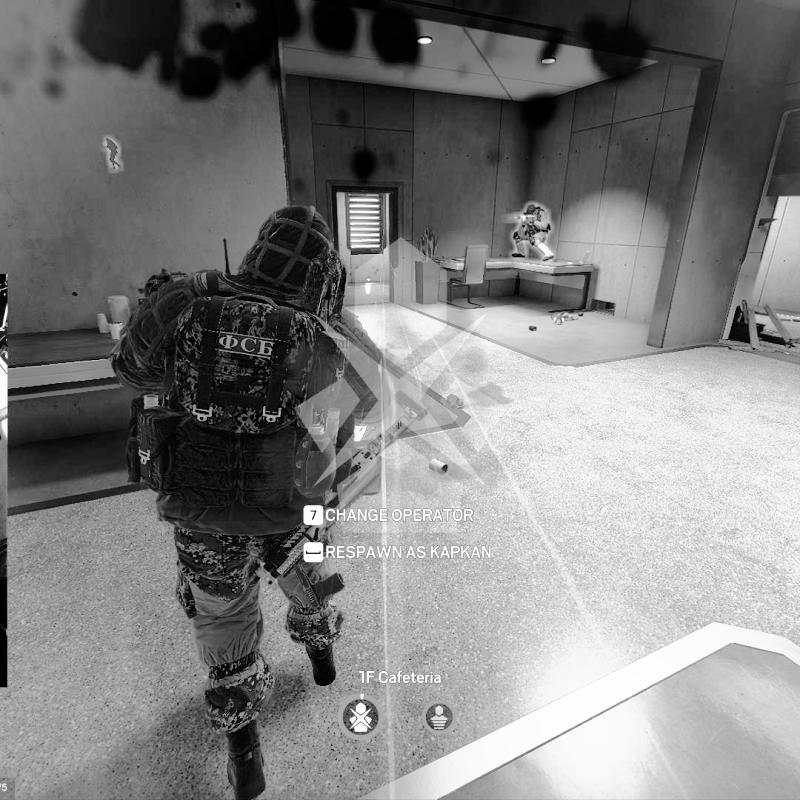Character: (105, 203, 402, 800), (504, 202, 557, 263)
Head: (244, 205, 336, 299), (526, 202, 537, 215)
